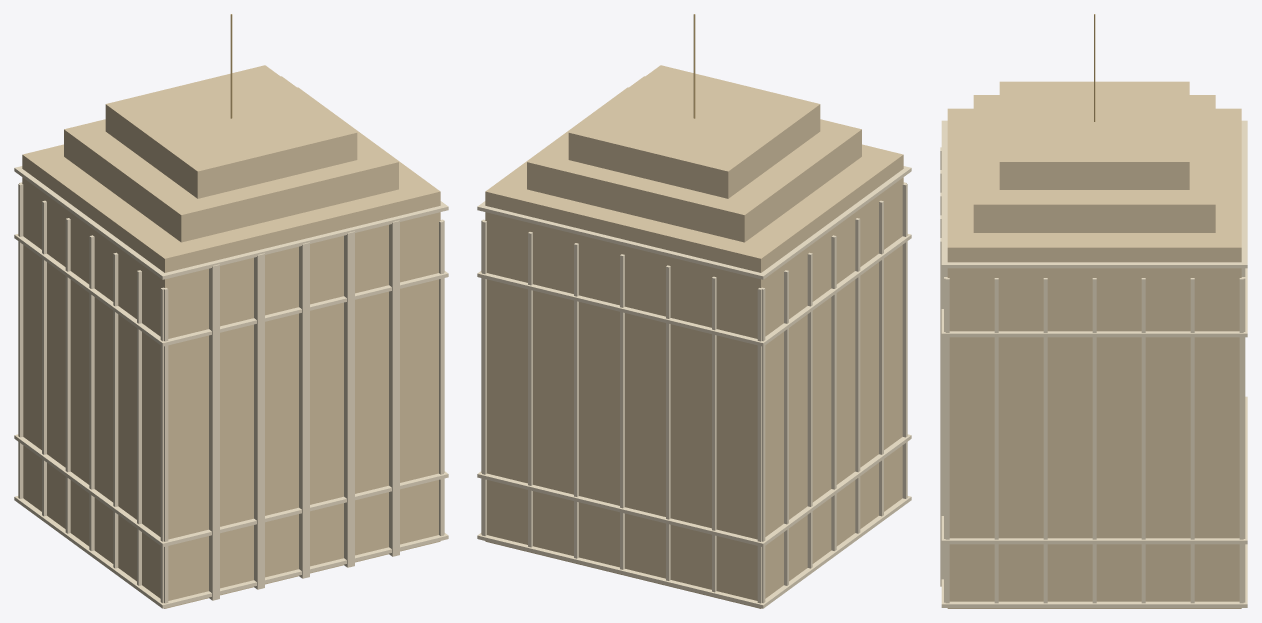
The model's file is heritage-2-lod1.glb.
The picture shows the model from 3 angles, left to right: view 1: azimuth 30°, elevation 25°; view 2: azimuth 150°, elevation 25°; view 3: azimuth 270°, elevation 25°; orthographic projection. The views are drawn at different scales.
Visible parts, largest first — view 1: heritage-2_architecture; view 2: heritage-2_architecture; view 3: heritage-2_architecture.
Part boxes in pixels (<box>): heritage-2_architecture: <box>14,14,448,608</box>; heritage-2_architecture: <box>477,14,911,608</box>; heritage-2_architecture: <box>940,14,1247,608</box>.
Size of the model in its own units: 19.7 by 33.5 by 17.78.
